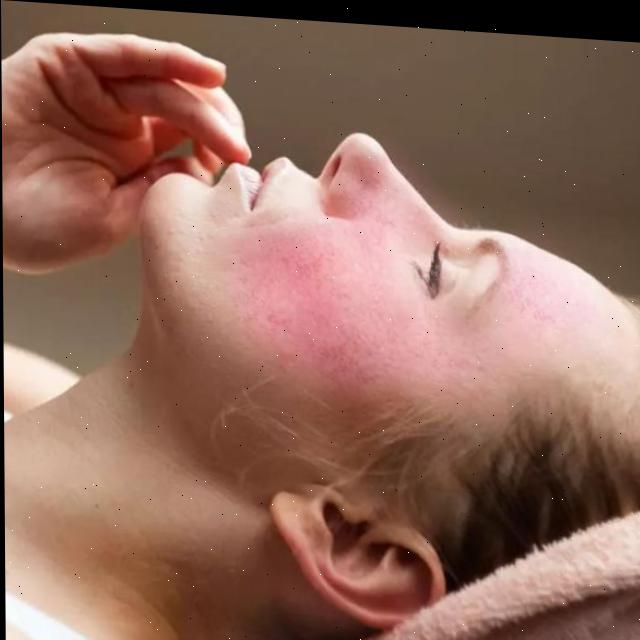Rosacea: (225, 219, 384, 402)
